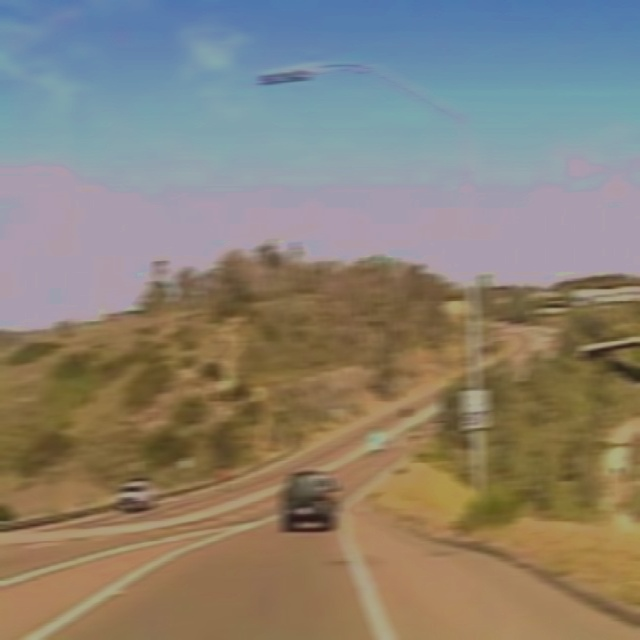speedLimit50: (463, 388, 488, 430)
